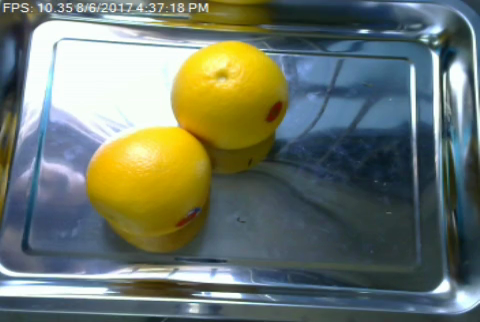Orange: (85, 125, 211, 235), (168, 42, 288, 150)
